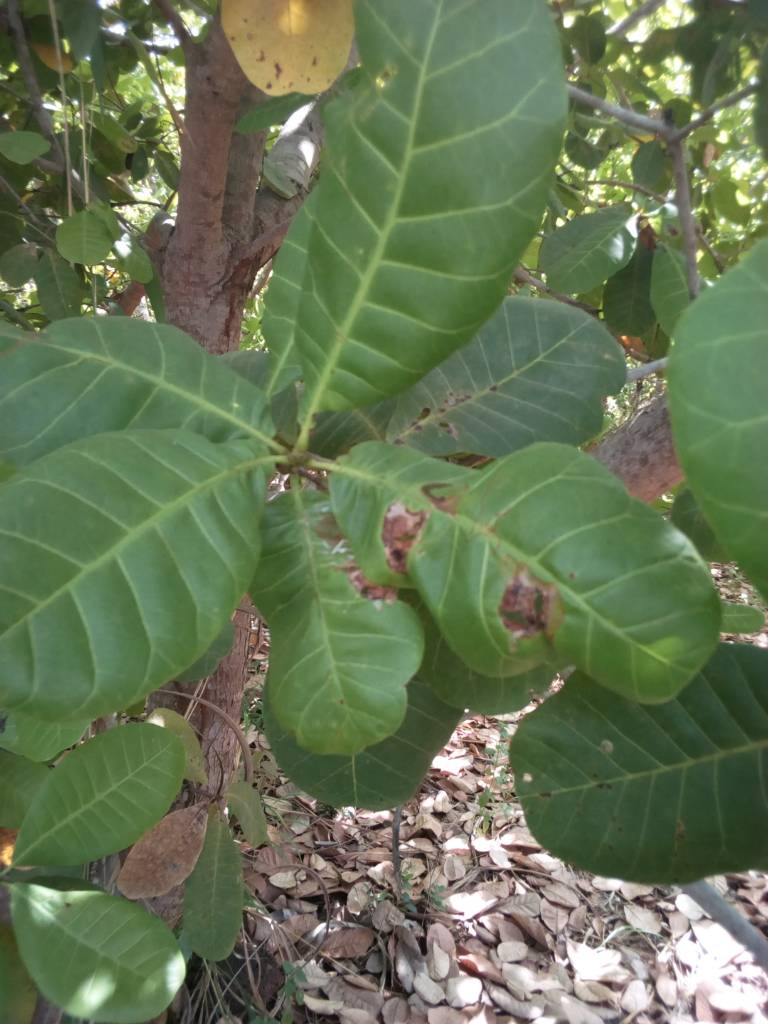Dysdercus wolkerii: (316, 428, 746, 700)
